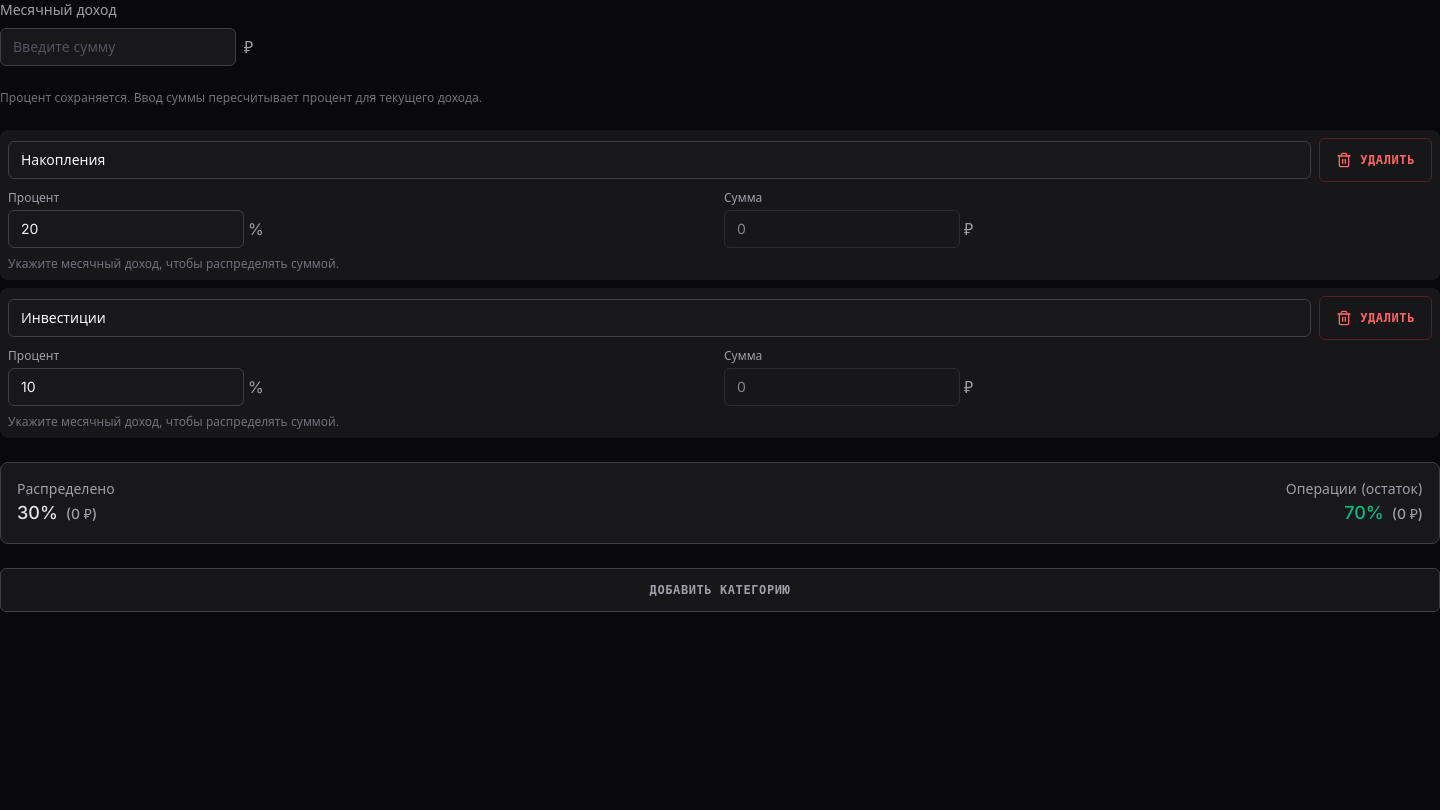
Test: BucketEditor › removes an unnamed added category without saving
Click the button "Добавить категорию". click: (720,590)
box: x1=0 y1=568 x2=1439 y2=612
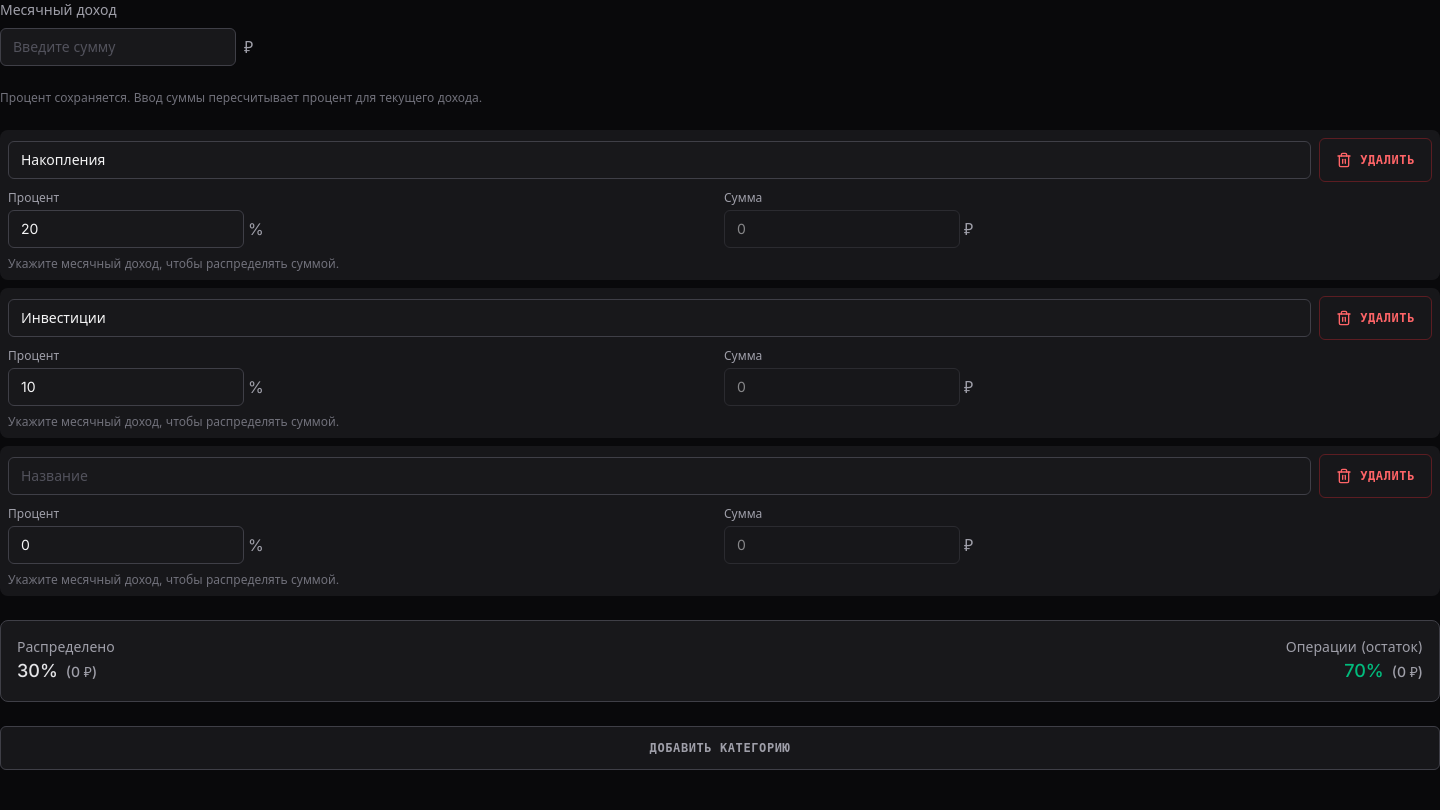
Click the 3rd button "Удалить". click: (1376,476)
box: x1=1319 y1=454 x2=1432 y2=498
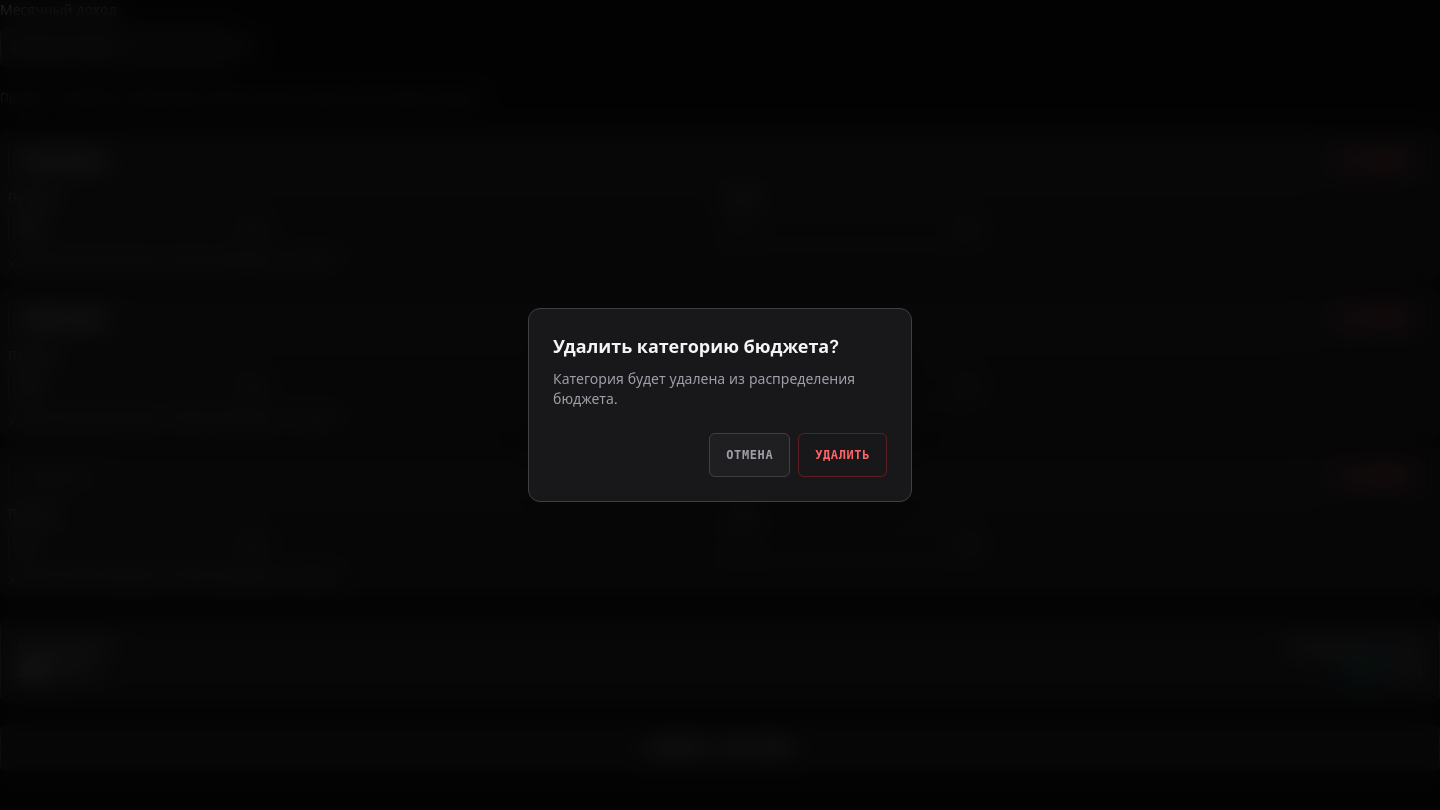
Click the button "Удалить". click: (843,455)
box: x1=798 y1=433 x2=887 y2=477
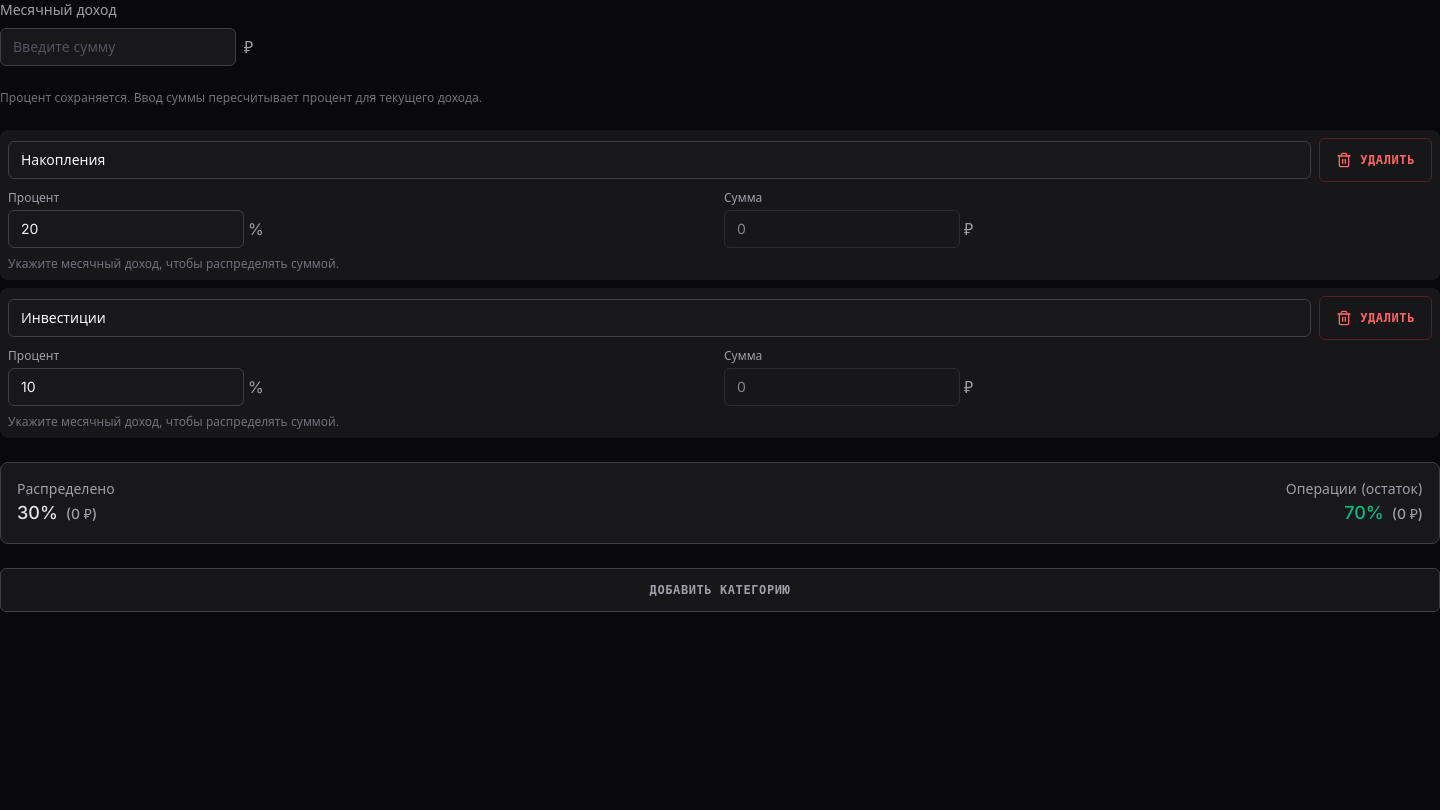
Expected: the number of fields named "Название категории" is 2, x1=8 y1=141 x2=1311 y2=179; x1=8 y1=299 x2=1311 y2=337
